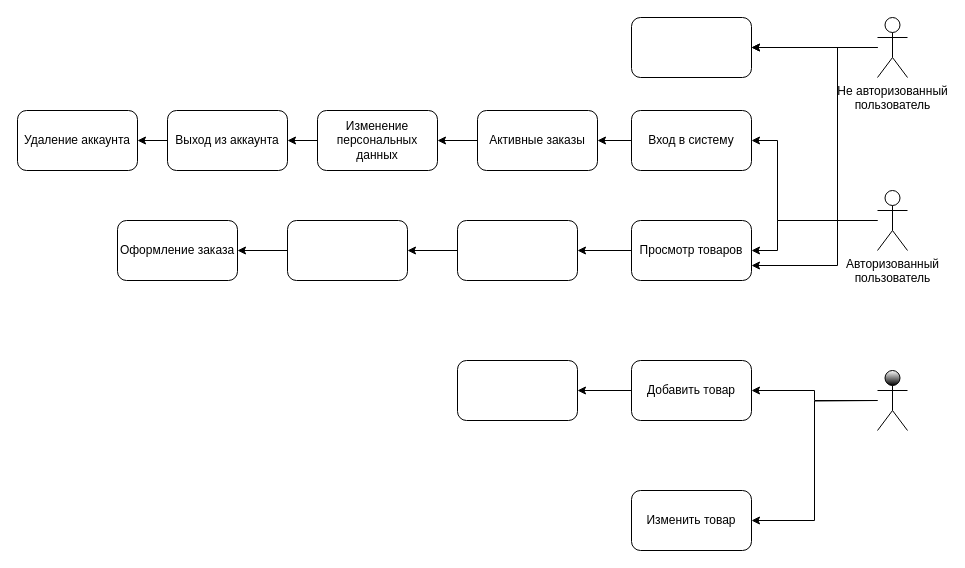
Some shapes in this 965 by 568 pixel diagram are drawn without their labels. The shapes that lost their labels are listed below. From the top down, each one's centre as x and y in pixels, then its label:
At [691,47]: "Регистрация".
At [347,250]: "Добавление в избранное".
At [517,250]: "Добавление в корзину".
At [517,390]: "Удалить товар".
At [892,400]: "Продавец".
